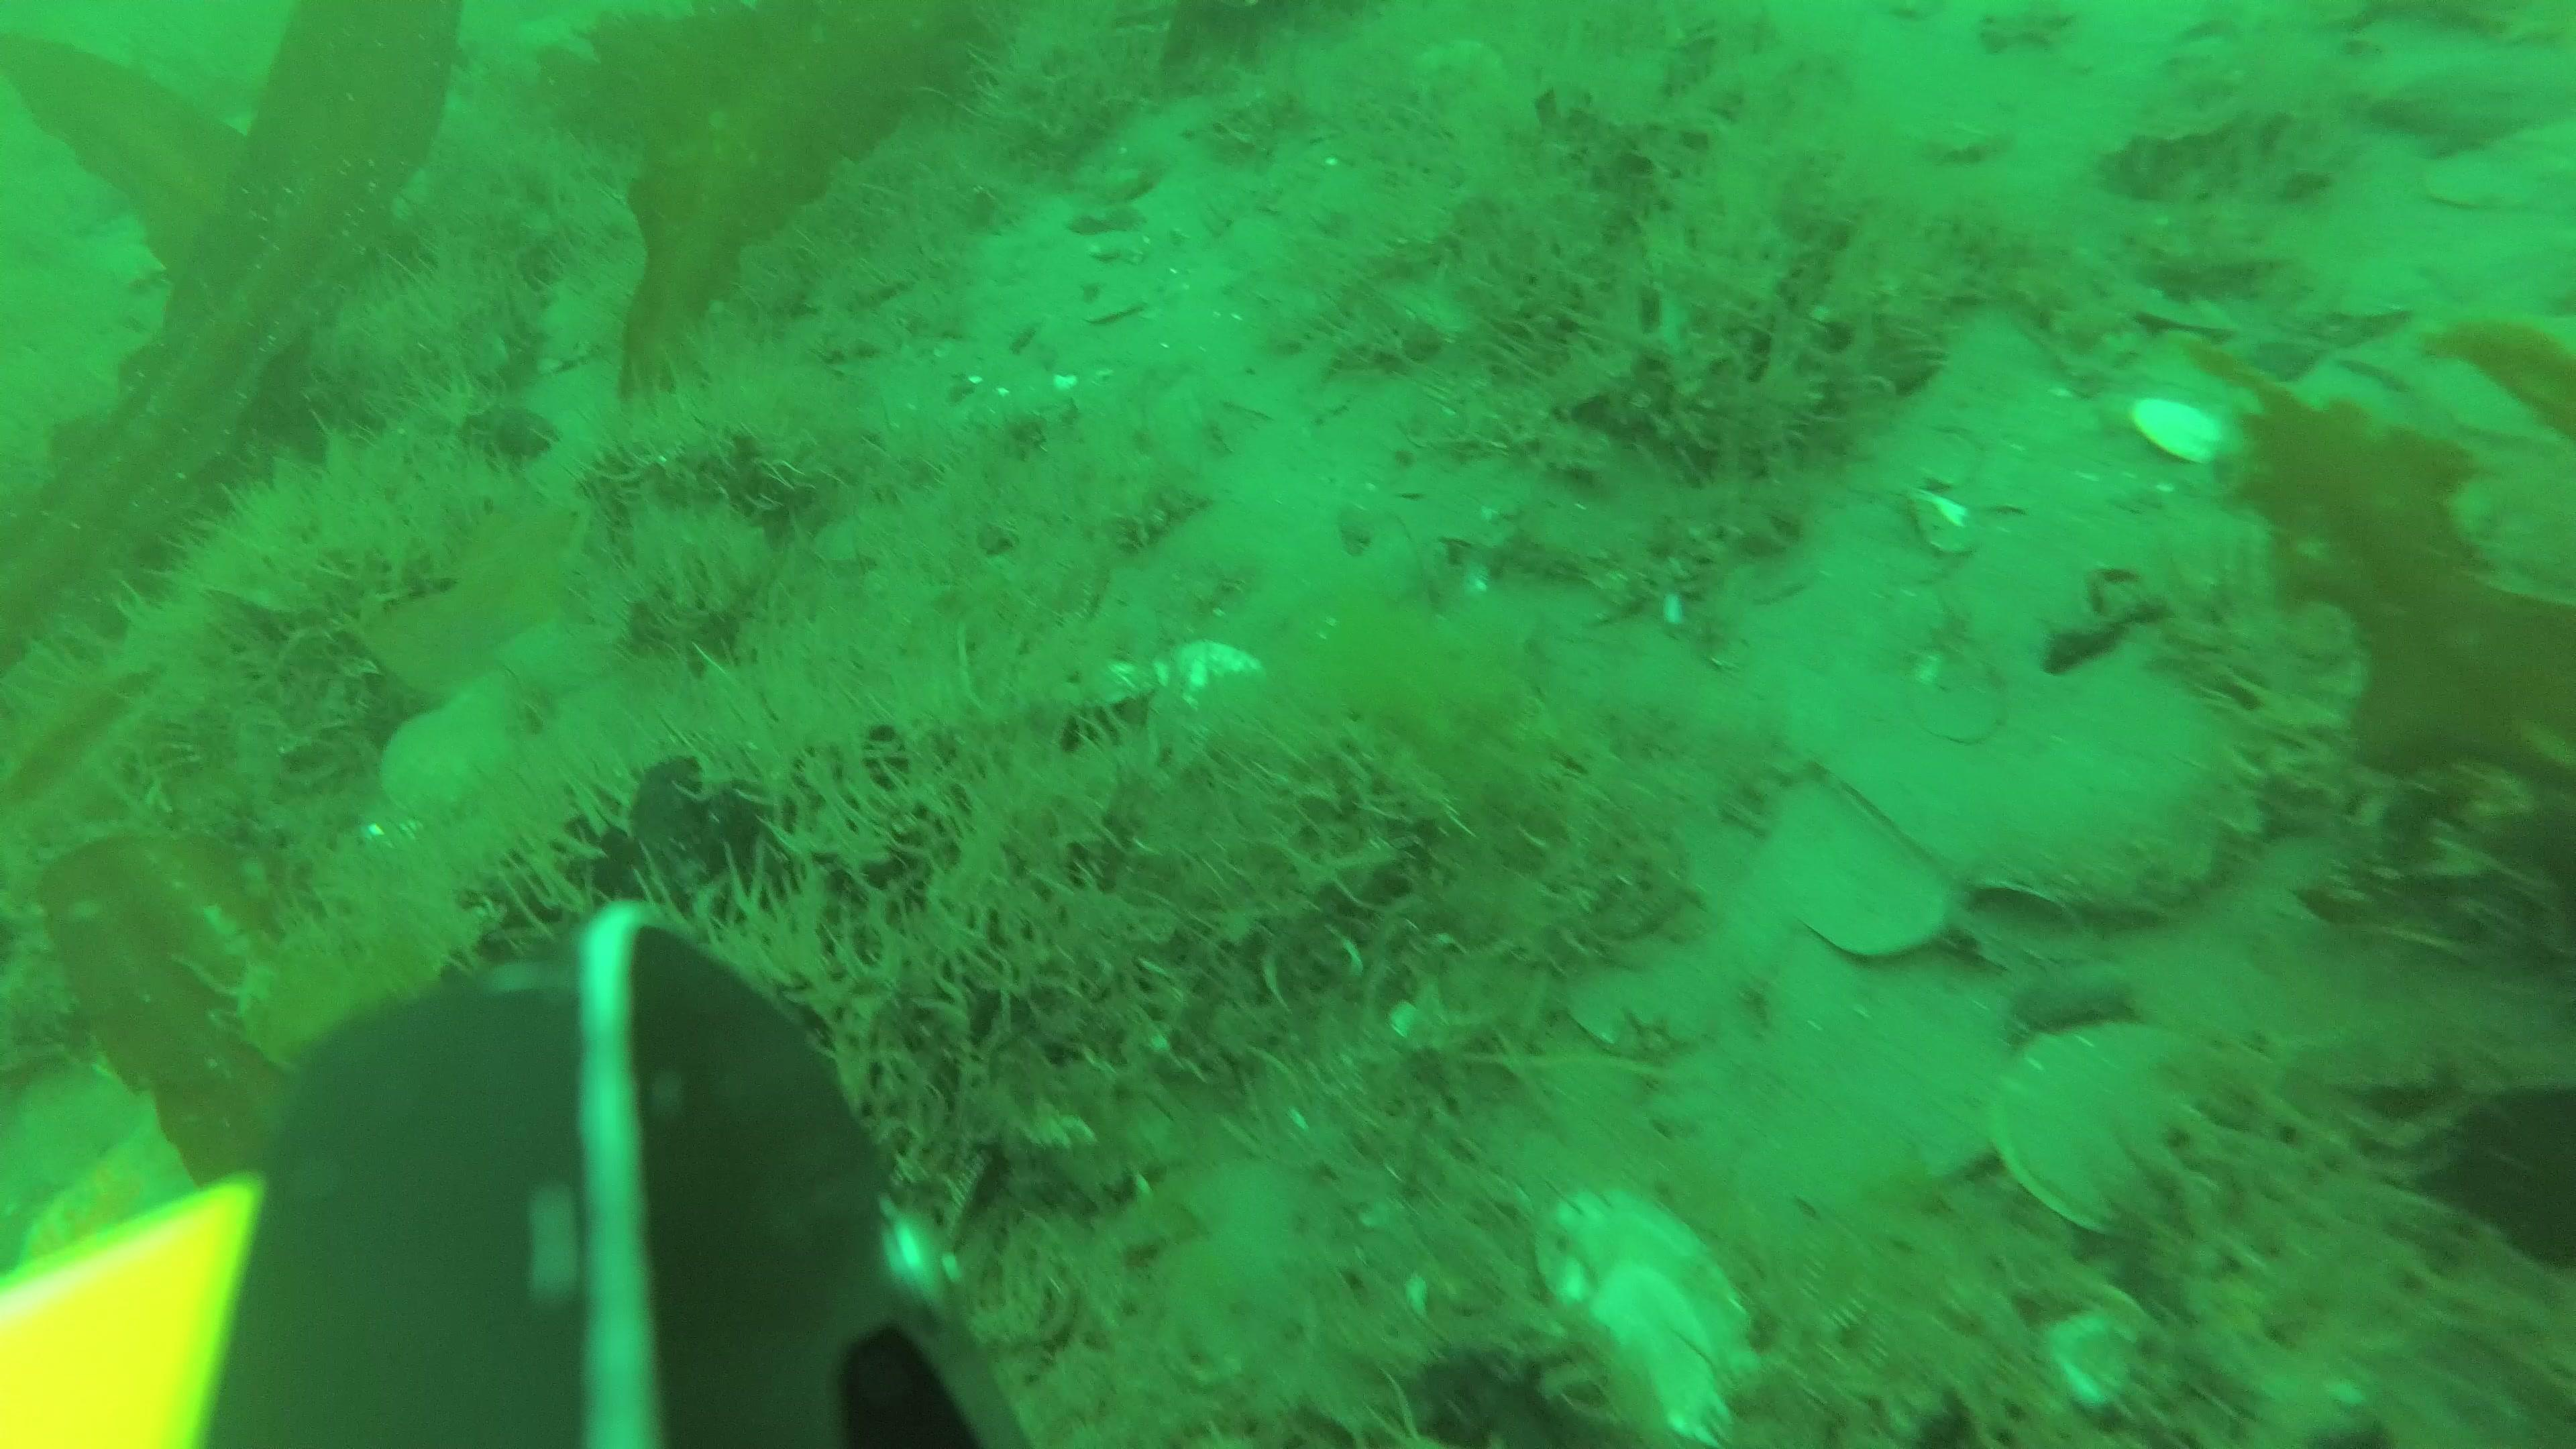scallop: (1530, 1194, 1762, 1440), (1997, 1017, 2247, 1246), (377, 699, 513, 824), (2135, 391, 2233, 479), (1152, 644, 1258, 711), (2420, 152, 2541, 211)
